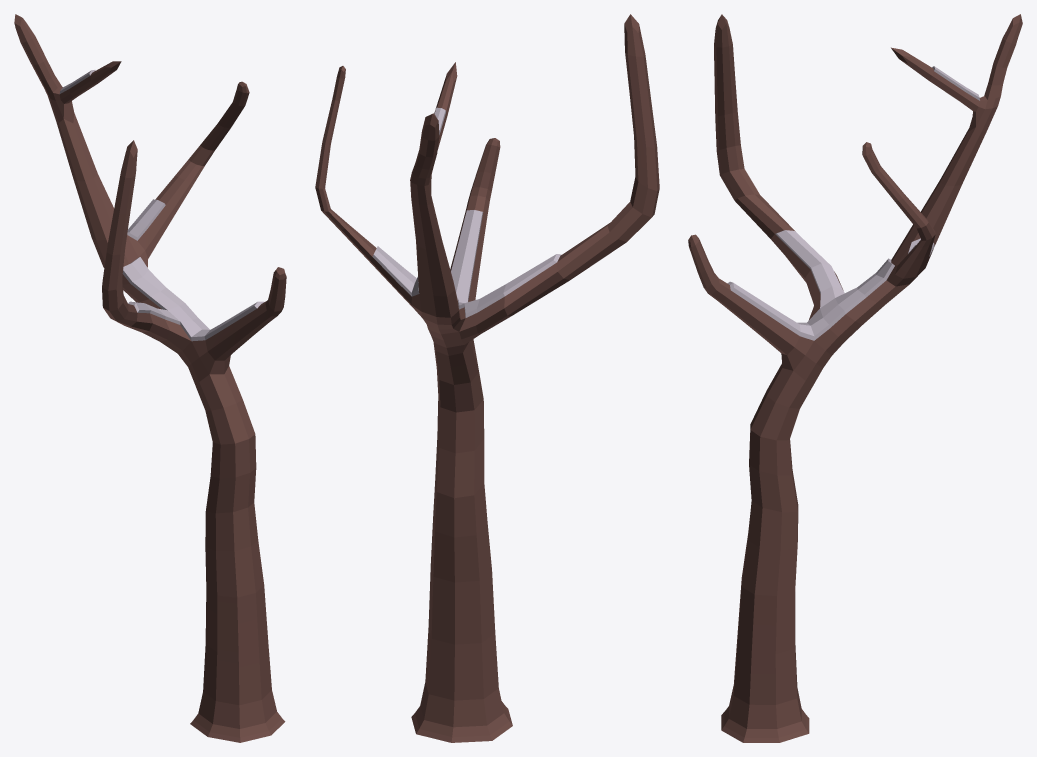
File: commontree_dead_snow_4.glb
3 renders of one model, left to right at view 1: azimuth 30°, elevation 25°; view 2: azimuth 150°, elevation 25°; view 3: azimuth 270°, elevation 25°, orthographic. The views are drawn at different scales.
Visible parts, largest first — view 1: CommonTree_Dead_Snow_4; view 2: CommonTree_Dead_Snow_4; view 3: CommonTree_Dead_Snow_4.
Part boxes in pixels (<box>): CommonTree_Dead_Snow_4: <box>14,14,286,742</box>; CommonTree_Dead_Snow_4: <box>315,14,659,742</box>; CommonTree_Dead_Snow_4: <box>688,14,1022,742</box>.
Bounding box in the file's own units: 0.8161 × 2.37 × 1.08.
